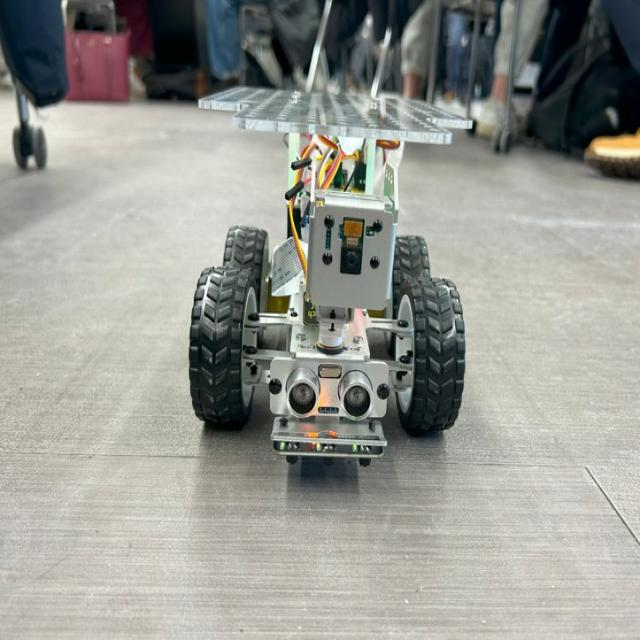vehicle: (176, 55, 483, 508)
